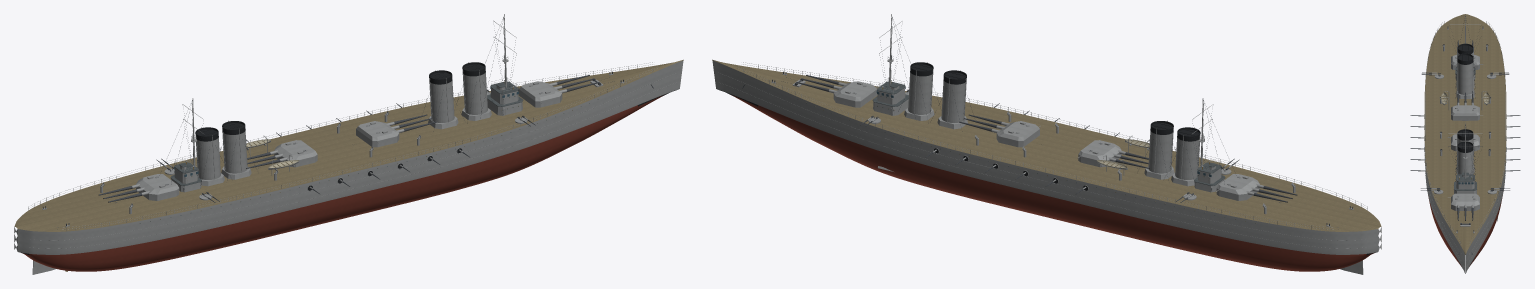
File: dante_alighieri.glb
3 views of the same model, side by side, from view 1: azimuth 30°, elevation 25°; view 2: azimuth 150°, elevation 25°; view 3: azimuth 270°, elevation 25° (orthographic). The views are drawn at different scales.
Parts seen in each view (by area): view 1: Dante Alighieri; view 2: Dante Alighieri; view 3: Dante Alighieri.
Boxes of the visible parts, box(x1,y1,x2,y2) form: Dante Alighieri: box(14, 14, 683, 274); Dante Alighieri: box(712, 14, 1381, 274); Dante Alighieri: box(1410, 14, 1520, 273).
Size of the model in its own units: 178 by 37.67 by 34.08.
9 materials, 8 textured.
